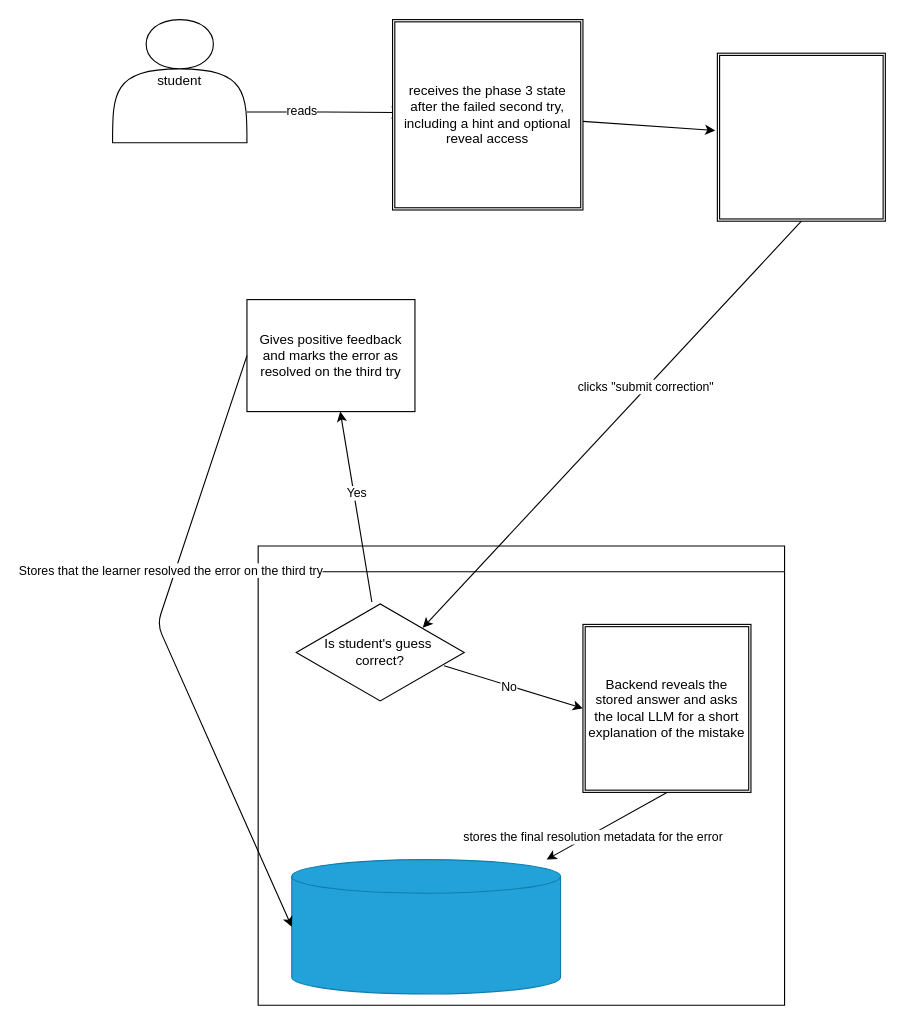
Image size: 906x1025. Some labels were removed from this diagram. The box of each missing label's shape, as (x1, y1, x2, y2) in pixels:
Correction Workflow phase 3: (257, 545, 785, 1005)
postgres [Container: ] collects errors from student: (291, 858, 561, 994)
types the third try or uses the Reveal answer action: (716, 52, 885, 221)
